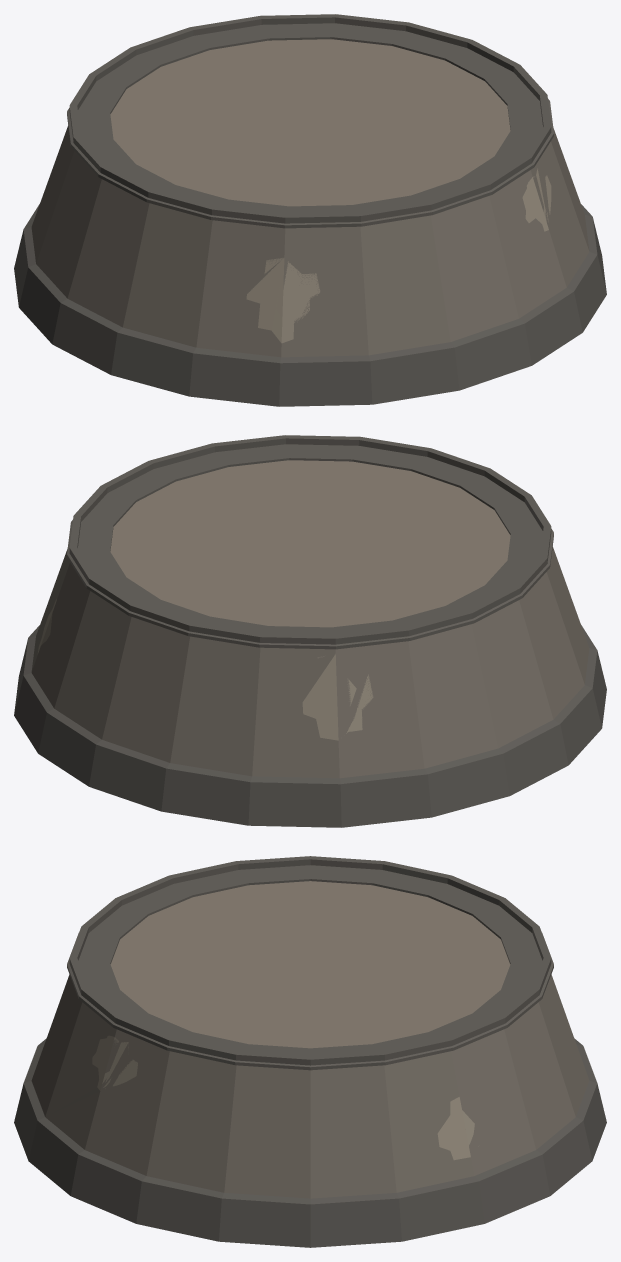
File: SM_Bld_Fort_Base_Circle_02.glb
The picture shows the model from 3 angles, top to bottom: view 1: azimuth 30°, elevation 25°; view 2: azimuth 150°, elevation 25°; view 3: azimuth 270°, elevation 25°; orthographic projection.
Visible parts, largest first — view 1: SM_Bld_Fort_Base_Circle_02_part00; view 2: SM_Bld_Fort_Base_Circle_02_part00; view 3: SM_Bld_Fort_Base_Circle_02_part00.
Part boxes in pixels (left/top/right/bottom): SM_Bld_Fort_Base_Circle_02_part00: left=14, top=14, right=606, bottom=406; SM_Bld_Fort_Base_Circle_02_part00: left=14, top=435, right=606, bottom=827; SM_Bld_Fort_Base_Circle_02_part00: left=14, top=856, right=606, bottom=1247.
Bounding box in the file's own units: 34.41 × 10.54 × 34.41.
1 material, 1 textured.
